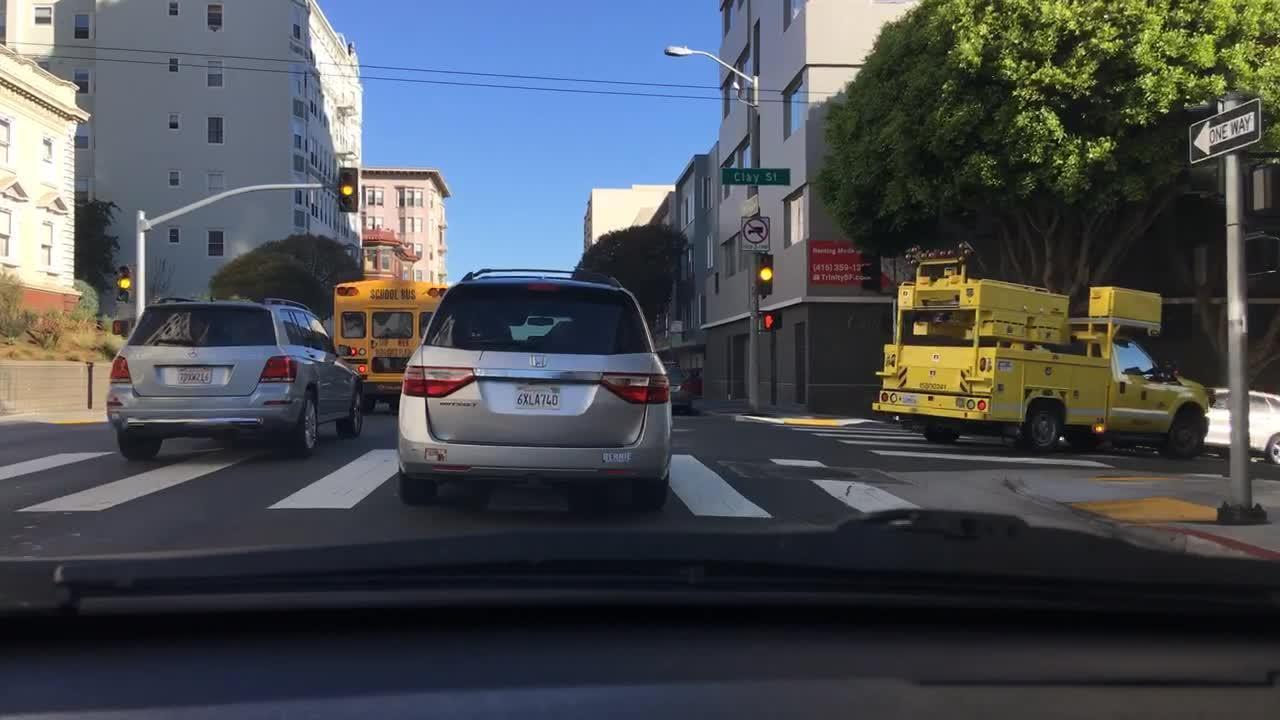Honda: (519, 349, 553, 380)
Mercedes: (182, 345, 203, 359)
